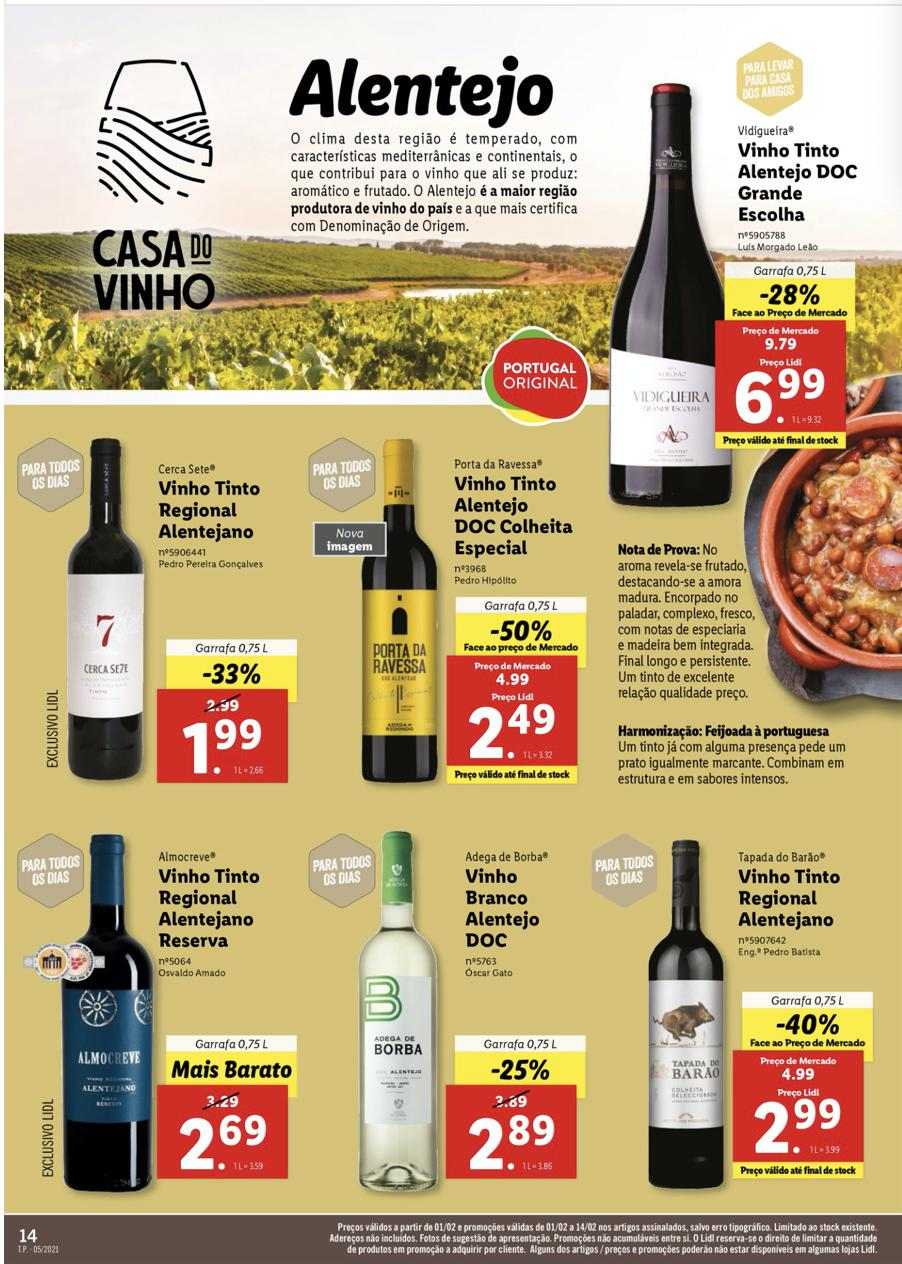name: (441, 473, 581, 556), (729, 140, 861, 228), (151, 862, 268, 953), (458, 692, 565, 767), (152, 475, 266, 543), (732, 864, 844, 933), (458, 865, 547, 951)
price: (751, 1086, 849, 1159), (466, 1112, 566, 1179), (735, 364, 838, 426), (179, 1112, 271, 1175), (175, 715, 263, 776)
product: (597, 36, 877, 526), (10, 787, 313, 1190), (586, 818, 894, 1204), (308, 818, 593, 1212), (299, 429, 586, 803), (4, 431, 305, 776)
promotion: (772, 1008, 844, 1037), (754, 281, 827, 309), (196, 658, 265, 687), (485, 1056, 557, 1083), (490, 615, 554, 643)
